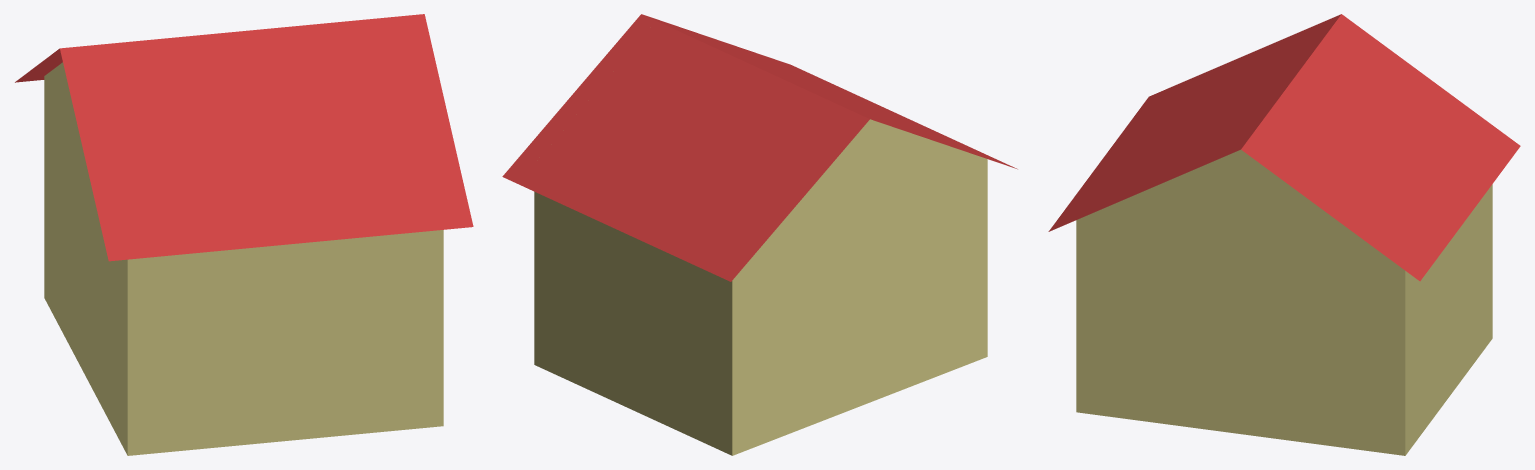
3 renders of one model, left to right at view 1: azimuth 30°, elevation 25°; view 2: azimuth 150°, elevation 25°; view 3: azimuth 270°, elevation 25°, orthographic. The views are drawn at different scales.
Bounding box in the file's own units: 14.58 × 15.75 × 10.83.
